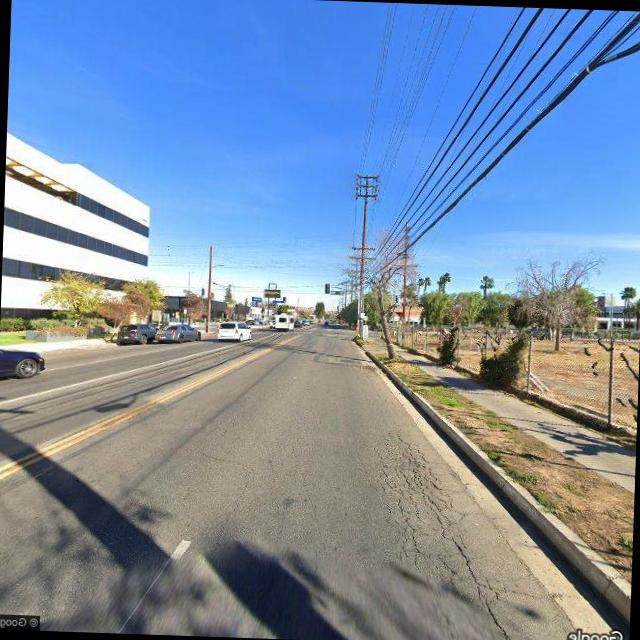crack: (362, 432, 475, 574), (449, 534, 521, 640)
